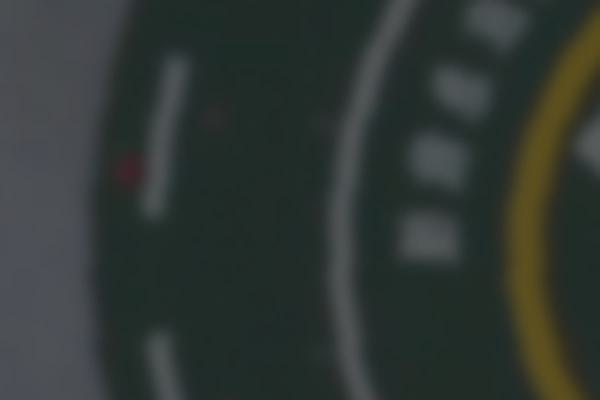Apron: (480, 1, 600, 400)
